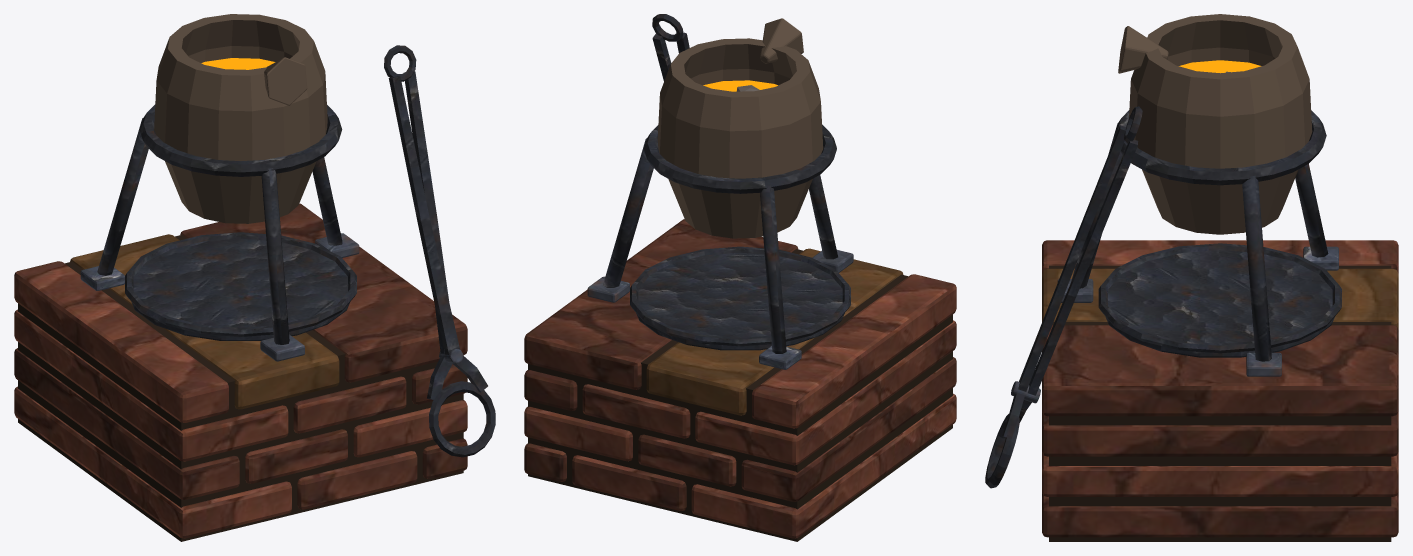
File: cf_crucible_stand.glb
3 renders of one model, left to right at view 1: azimuth 30°, elevation 25°; view 2: azimuth 150°, elevation 25°; view 3: azimuth 270°, elevation 25°, orthographic. The views are drawn at different scales.
Visible parts, largest first — view 1: model; view 2: model; view 3: model.
Boxes of the visible parts, x1=… form: model: x1=14, y1=14, x2=495, y2=541; model: x1=524, y1=14, x2=956, y2=541; model: x1=985, y1=14, x2=1398, y2=541.
Size of the model in its own units: 0.6005 by 0.8234 by 0.6952.
11 materials, 6 textured.
